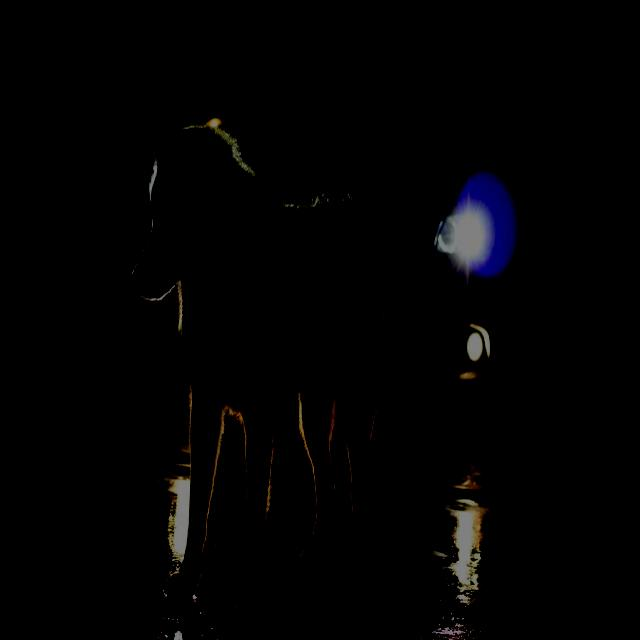Dog: (72, 60, 414, 613)
